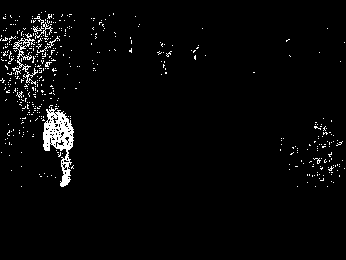person: (43, 105, 78, 189)
